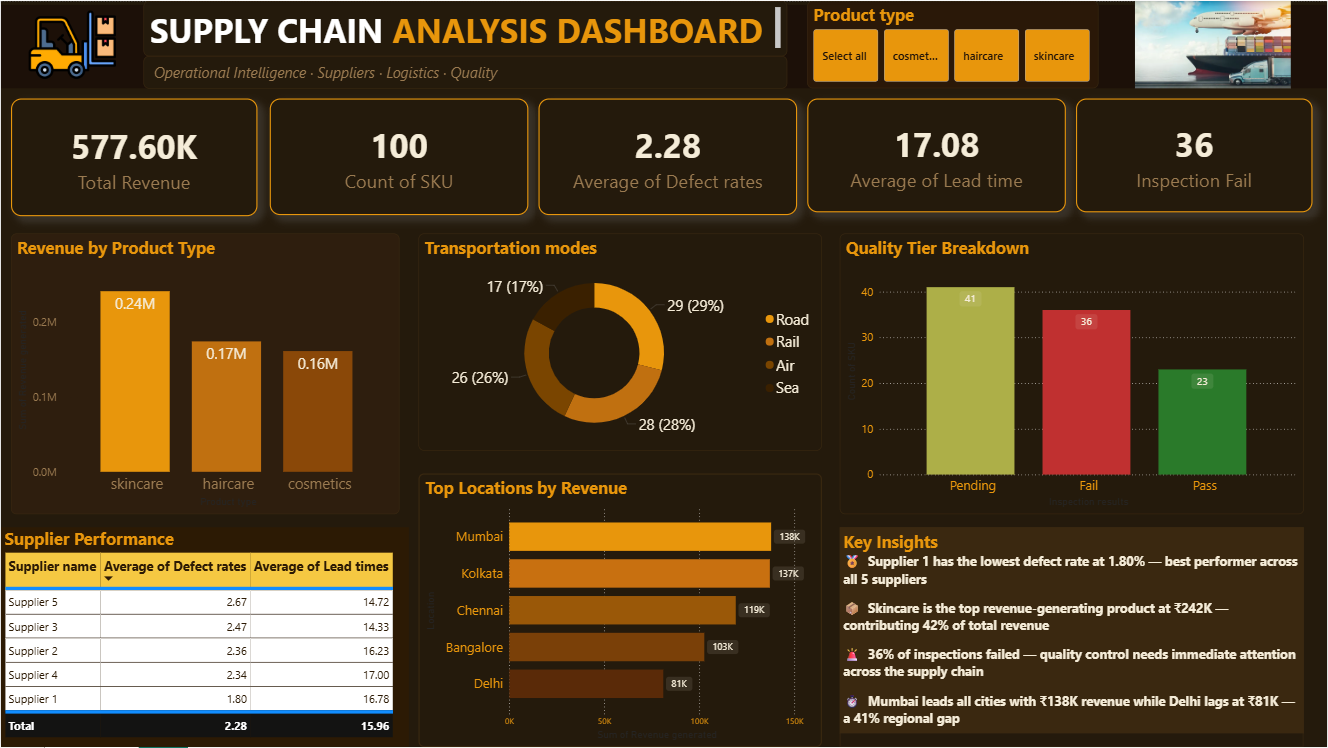

This screenshot's page, from the dashboard's own definition file:
{"tool":"powerbi","page":{"name":"Page 1","canvas":[1920,1080],"ordinal":0},"visuals":[{"type":"card","title":"TOTAL REVENUE","fields":{"Values":["Sum(supply_chain_data (2).Revenue generated)"]},"box":[14.5,141.2,356.5,170.1],"z":0},{"type":"card","title":"TOTAL REVENUE","fields":{"Values":["CountNonNull(supply_chain_data (2).SKU)"]},"box":[389,142,374.6,168.8],"z":1000},{"type":"card","title":"TOTAL REVENUE","fields":{"Values":["supply_chain_data (2).Fail Count"]},"box":[1556.3,141.2,342,164.7],"z":2000},{"type":"card","title":"TOTAL REVENUE","fields":{"Values":["Avg(supply_chain_data (2).Defect rates)"]},"box":[778,142,374.6,168.8],"z":3000},{"type":"card","title":"TOTAL REVENUE","fields":{"Values":["Avg(supply_chain_data (2).Lead time)"]},"box":[1167.1,142,374.6,164.7],"z":4000},{"type":"columnChart","title":"Revenue by Product Type ","fields":{"Category":["supply_chain_data (2).Product type"],"Y":["Sum(supply_chain_data (2).Revenue generated)"]},"box":[14,336,562,406],"z":5000},{"type":"clusteredBarChart","title":"Top Locations by Revenue ","fields":{"Category":["supply_chain_data (2).Location"],"Y":["Sum(supply_chain_data (2).Revenue generated)"]},"box":[604,684,584,396],"z":6000},{"type":"donutChart","title":"Transportation modes","fields":{"Category":["supply_chain_data (2).Transportation modes"],"Y":["CountNonNull(supply_chain_data (2).SKU)"]},"box":[604,336,584,314],"z":7000},{"type":"tableEx","title":"Supplier Performance ","fields":{"Values":["supply_chain_data (2).Supplier name","Avg(supply_chain_data (2).Defect rates)","Avg(supply_chain_data (2).Lead times)"]},"box":[0,762,590,318],"z":8000},{"type":"clusteredColumnChart","title":"Quality Tier Breakdown ","fields":{"Category":["supply_chain_data (2).Inspection results"],"Y":["CountNonNull(supply_chain_data (2).SKU)"]},"box":[1214,336,672,406],"z":9000},{"type":"shape","box":[1214.3,761.9,671.4,318.5],"z":10000},{"type":"textbox","box":[1214,762,672,298],"z":11000},{"type":"shape","box":[0,0,1920.1,126.7],"z":12000},{"type":"textbox","box":[207,0,932,79.6],"z":13000},{"type":"textbox","box":[207,79.6,932,47.1],"z":14000},{"type":"advancedSlicerVisual","fields":{"Values":["supply_chain_data (2).Product type"]},"box":[1167.2,0,421.7,126.7],"z":15000},{"type":"image","box":[0,0,206.3,126.7],"z":16000},{"type":"image","box":[1588.9,0,331.2,126.7],"z":17000}]}

Visuals, with their boxes in screenshot pixels (x1, y1, x2, y2), scaled from the page's 1920x1080 canvas onto the 1328x748 screenshot:
"TOTAL REVENUE" card: bbox(10, 98, 257, 216)
"TOTAL REVENUE" card: bbox(269, 98, 528, 215)
"TOTAL REVENUE" card: bbox(1076, 98, 1313, 212)
"TOTAL REVENUE" card: bbox(538, 98, 797, 215)
"TOTAL REVENUE" card: bbox(807, 98, 1066, 212)
"Revenue by Product Type " columnChart: bbox(10, 233, 398, 514)
"Top Locations by Revenue " clusteredBarChart: bbox(418, 474, 822, 747)
"Transportation modes" donutChart: bbox(418, 233, 822, 450)
"Supplier Performance " tableEx: bbox(0, 528, 408, 747)
"Quality Tier Breakdown " clusteredColumnChart: bbox(840, 233, 1304, 514)
shape: bbox(840, 528, 1304, 747)
textbox: bbox(840, 528, 1304, 734)
shape: bbox(0, 0, 1327, 88)
textbox: bbox(143, 0, 788, 55)
textbox: bbox(143, 55, 788, 88)
advancedSlicerVisual - supply_chain_data (2).Product type: bbox(807, 0, 1099, 88)
image: bbox(0, 0, 143, 88)
image: bbox(1099, 0, 1327, 88)
